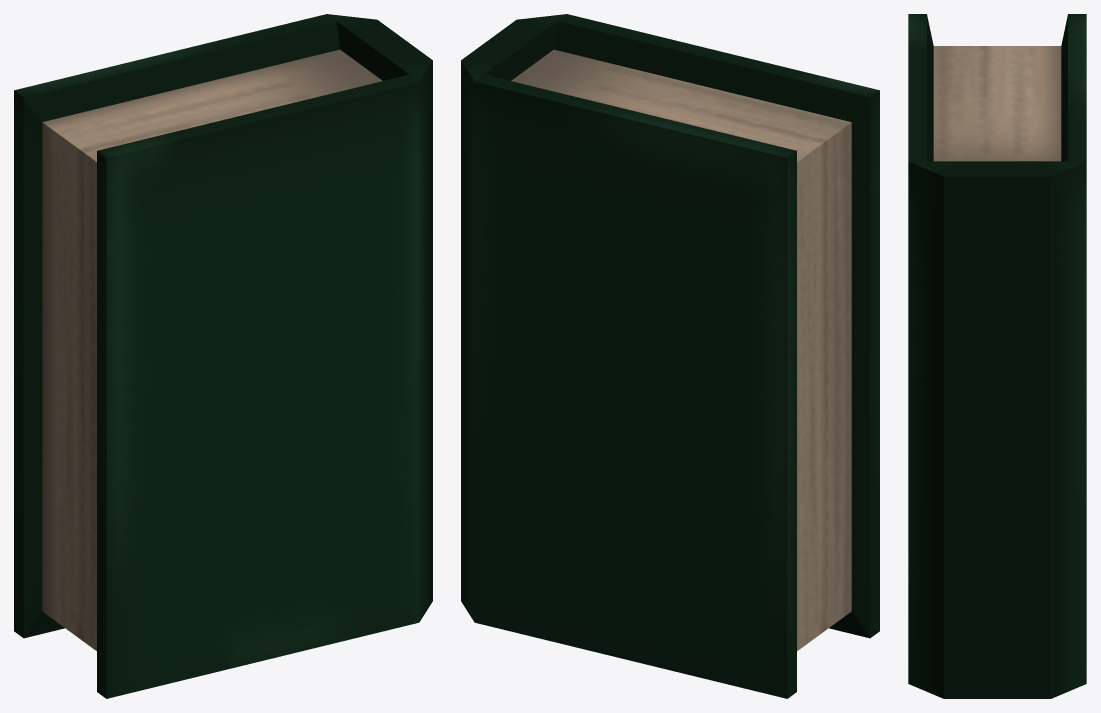
File: SM_book01.fbx
3 views of the same model, side by side, from view 1: azimuth 30°, elevation 25°; view 2: azimuth 150°, elevation 25°; view 3: azimuth 270°, elevation 25° (orthographic). The views are drawn at different scales.
Visible parts, largest first — view 1: SM_book01; view 2: SM_book01; view 3: SM_book01.
Boxes of the visible parts, x1=… form: SM_book01: x1=14, y1=14, x2=432, y2=698; SM_book01: x1=461, y1=14, x2=879, y2=698; SM_book01: x1=908, y1=14, x2=1086, y2=698.
Size of the model in its own units: 0.5339 by 0.8004 by 0.2478.
